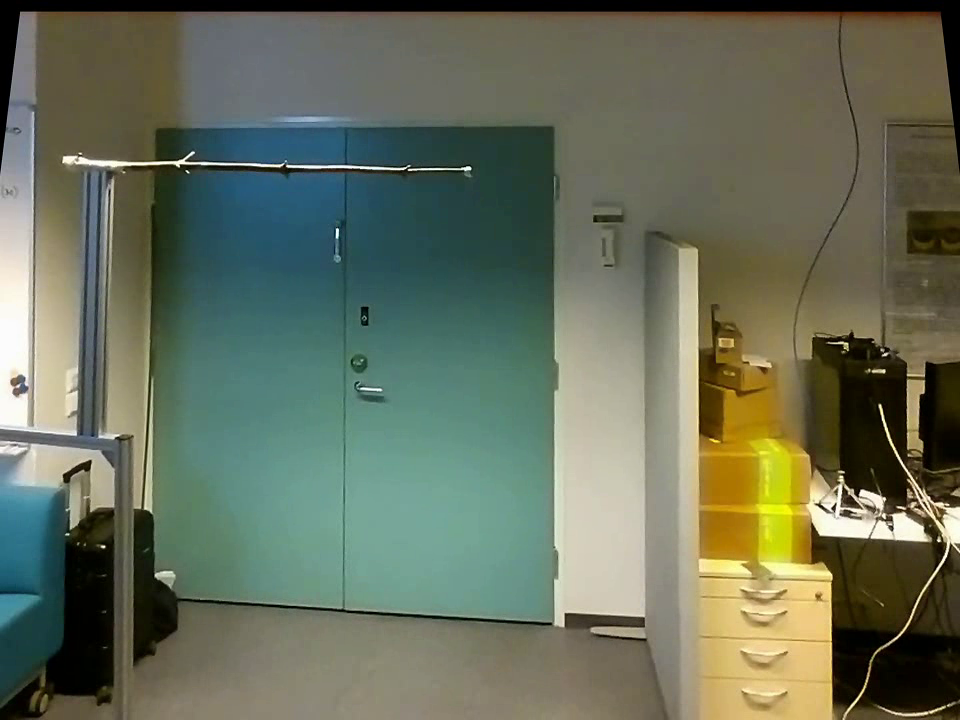aluminum_frame: (73, 171, 108, 429), (109, 431, 136, 718), (2, 421, 128, 458), (26, 97, 36, 449), (6, 95, 40, 111)
branch: (128, 144, 460, 184)
